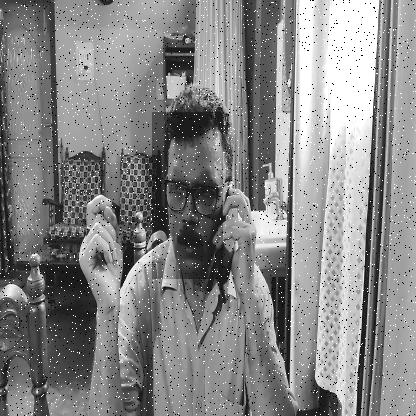Distracted: (152, 112, 223, 279)
